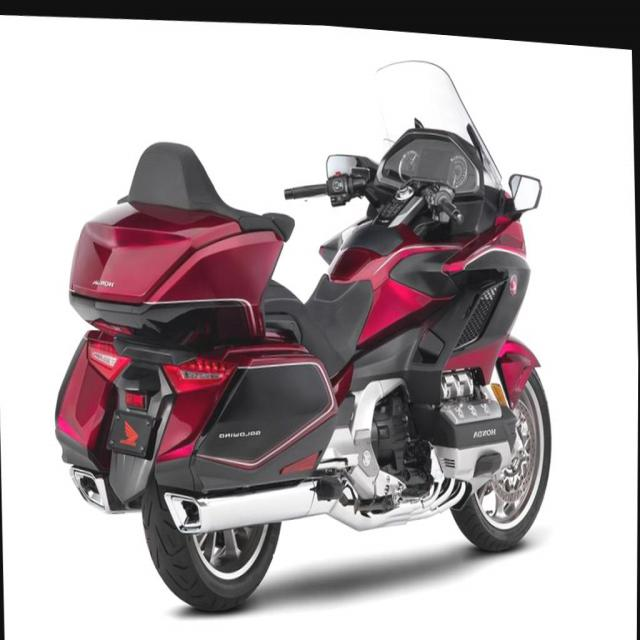Gold Wing: (44, 21, 558, 637)
